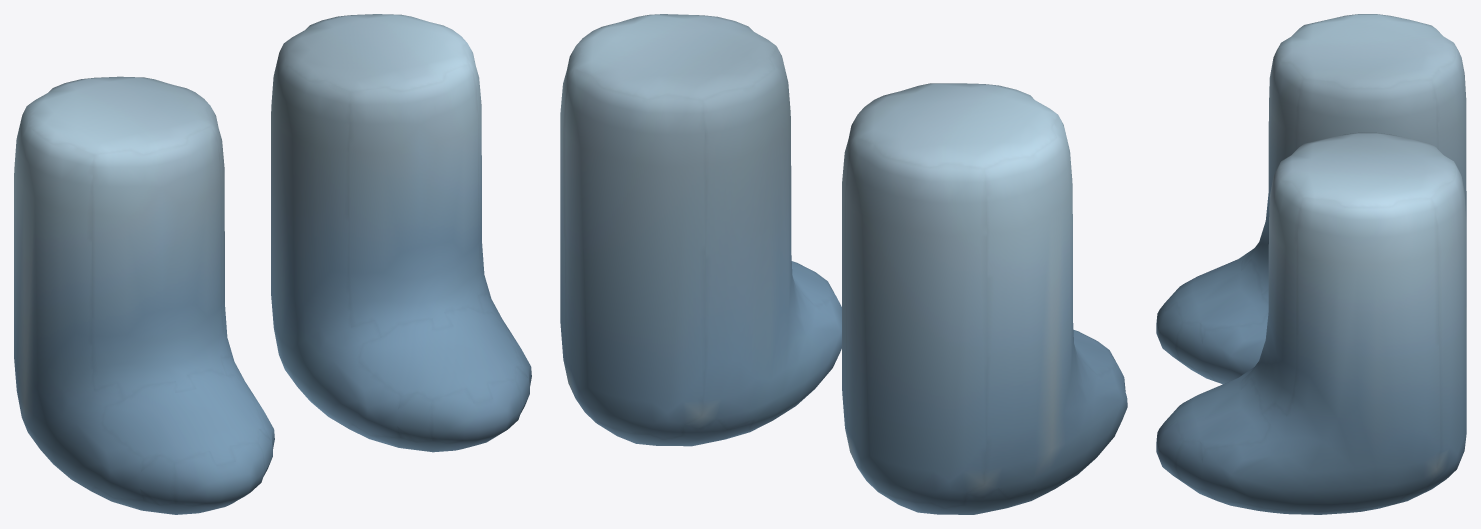
File: item_boots.glb
3 renders of one model, left to right at view 1: azimuth 30°, elevation 25°; view 2: azimuth 150°, elevation 25°; view 3: azimuth 270°, elevation 25°, orthographic. The views are drawn at different scales.
Parts seen in each view (by area): view 1: boots; view 2: boots; view 3: boots.
Part boxes in pixels (left/top/right/bottom): boots: left=14, top=14, right=531, bottom=514; boots: left=560, top=14, right=1127, bottom=514; boots: left=1156, top=14, right=1466, bottom=514.
Bounding box in the file's own units: 0.5168 × 0.3953 × 0.3316.
1 material, 1 textured.
